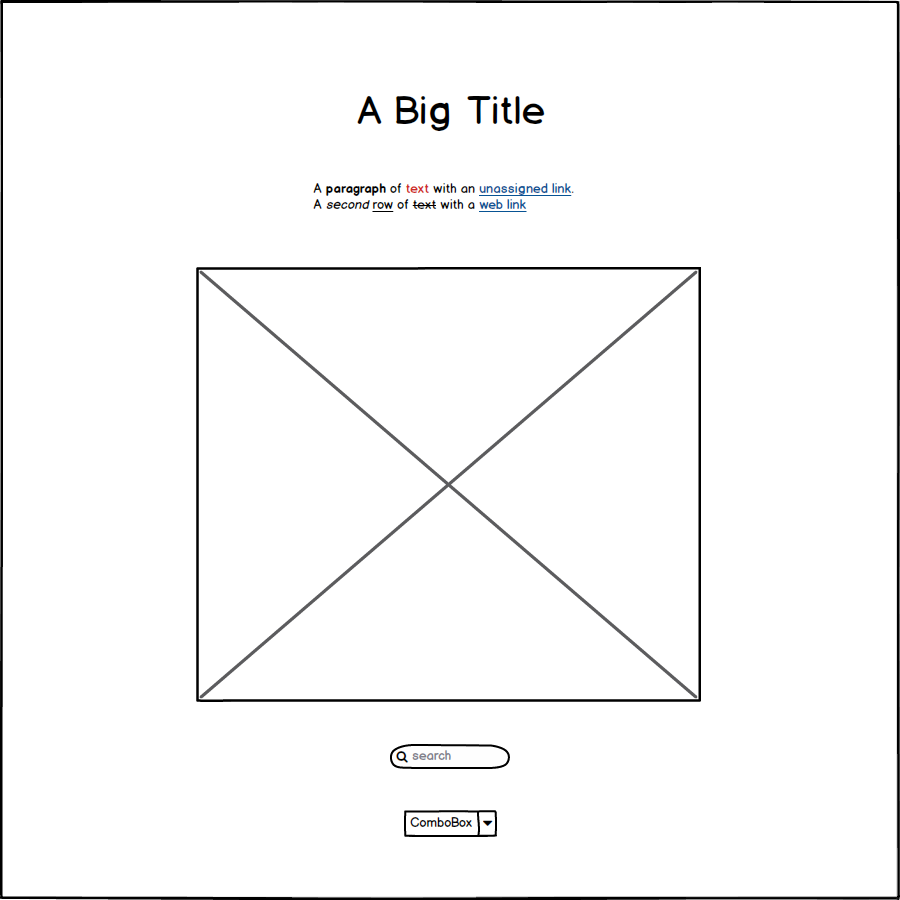h1: (349, 85, 557, 143)
image: (192, 256, 712, 708)
p: (302, 174, 583, 221)
search: (381, 733, 520, 777)
select_box: (392, 804, 509, 845)
